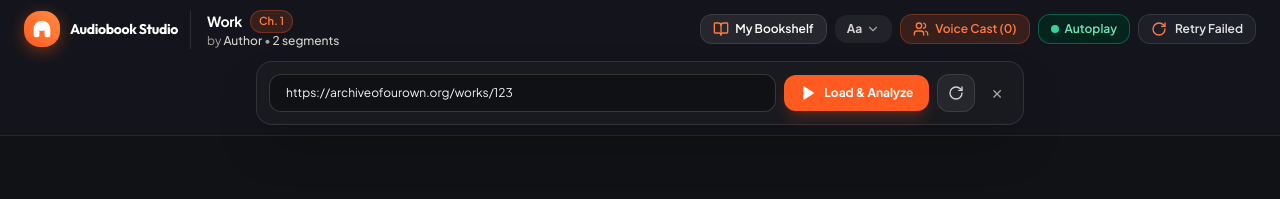
chapter loading feedback › surfaces reset failures and releases the load button
This screenshot has width=1280, height=199.
Click the button "Load & Analyze": (857, 92) x1=784 y1=74 x2=929 y2=110
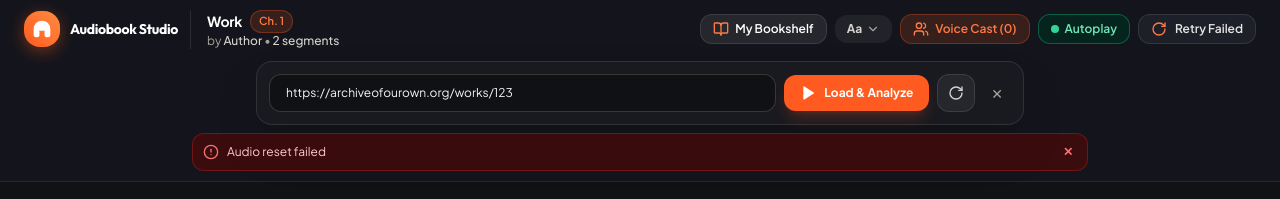
Expected: the message shows "Audio reset failed", x1=227 y1=144 x2=326 y2=158
